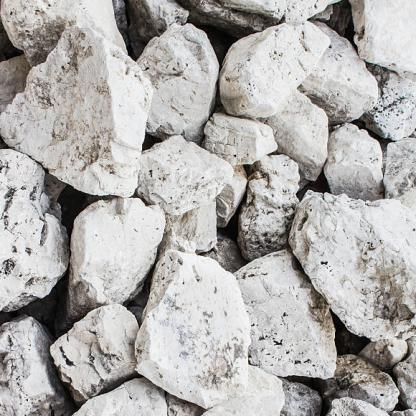Sedimentary_Limestone: (4, 18, 159, 206), (272, 170, 415, 355), (210, 14, 388, 156), (31, 192, 183, 319), (130, 250, 246, 404)
